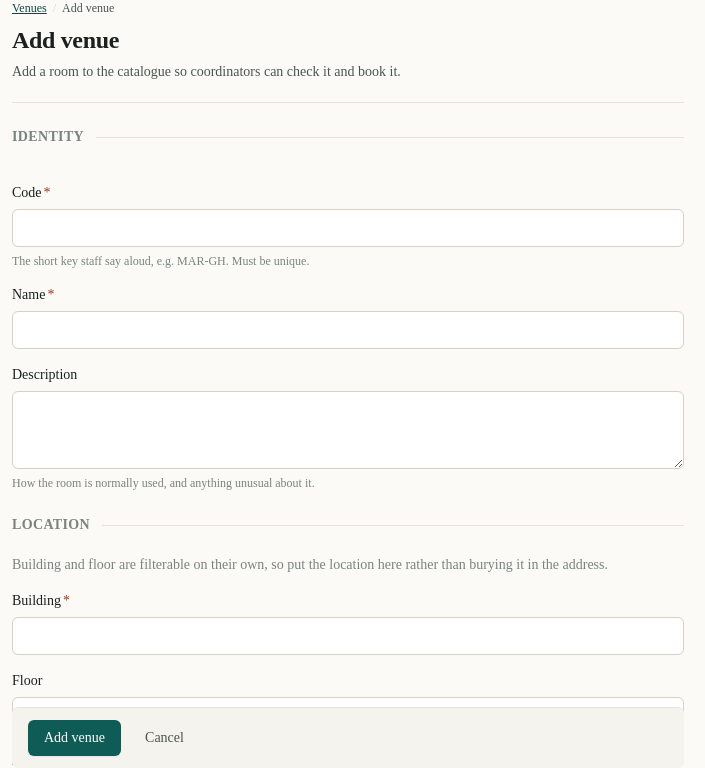
Add venue › what it refuses before sending › [SPM-39][AC1] a capacity of zero
Type "HALL-A" into the field labelled "Code*" at (348, 228), box [12, 209, 684, 247]
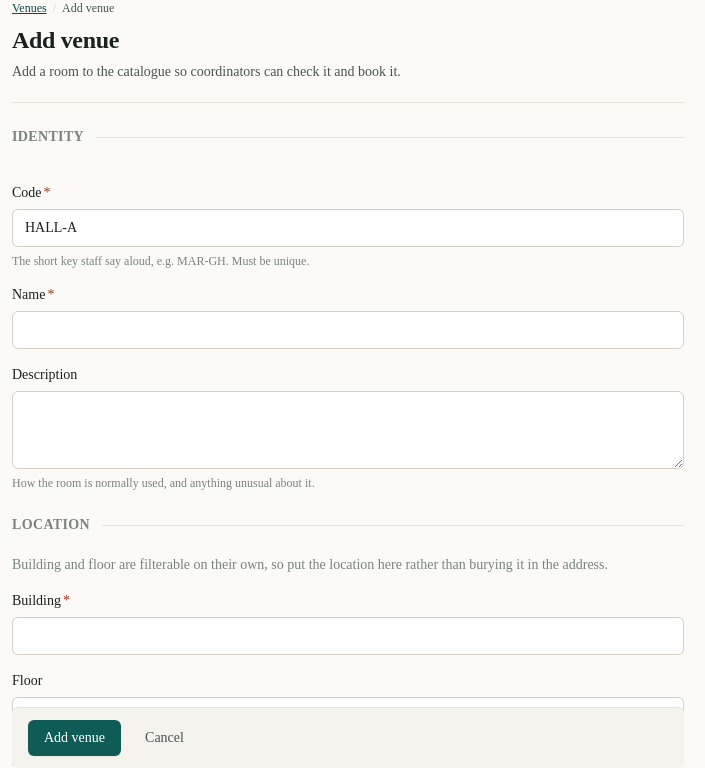
Type "Hall A" into the field labelled "Name*" at (348, 330), box [12, 311, 684, 349]
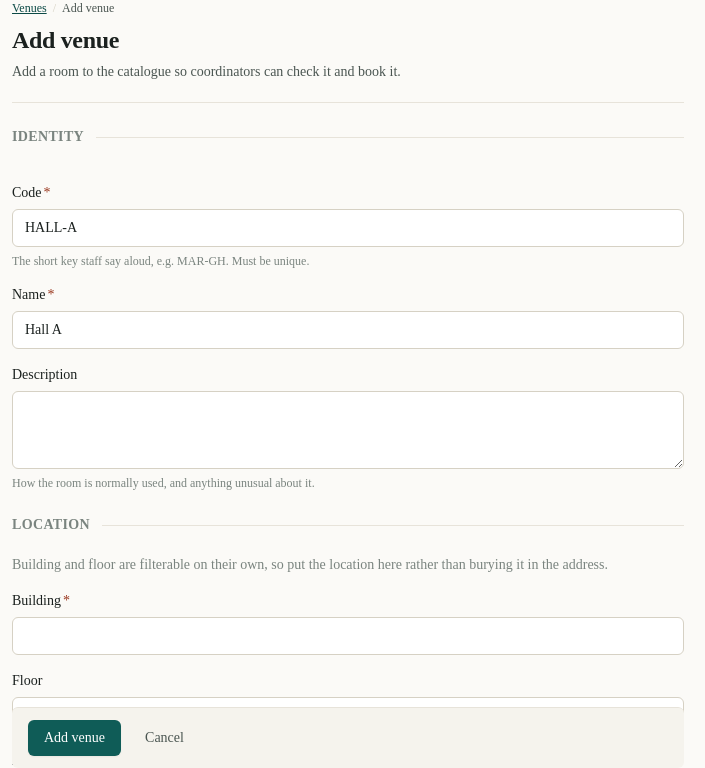
Type "Tower 1" into the field labelled "Building*" at (348, 636), box [12, 617, 684, 655]
(page scrolled)
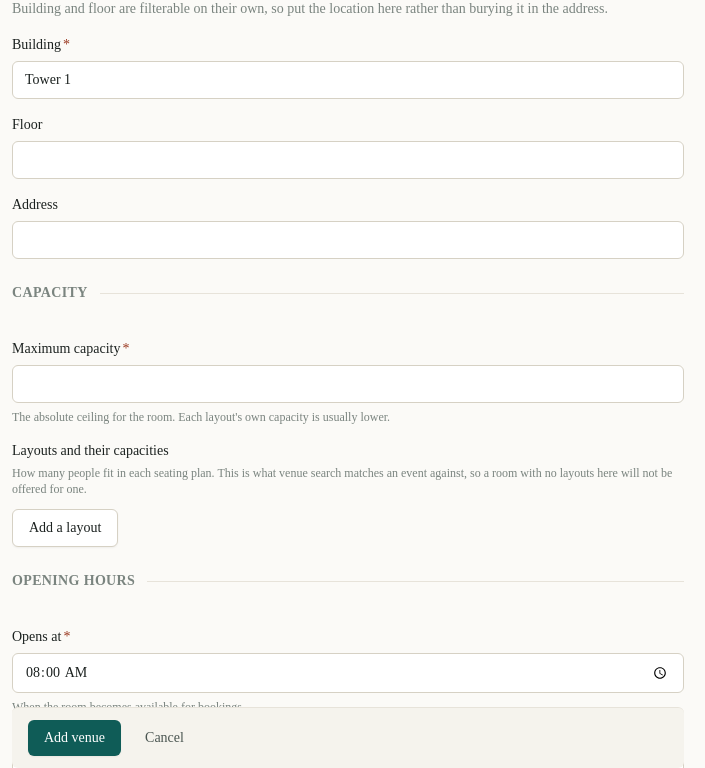
Type "300" into the number field labelled "Maximum capacity*" at (348, 384), box [12, 365, 684, 403]
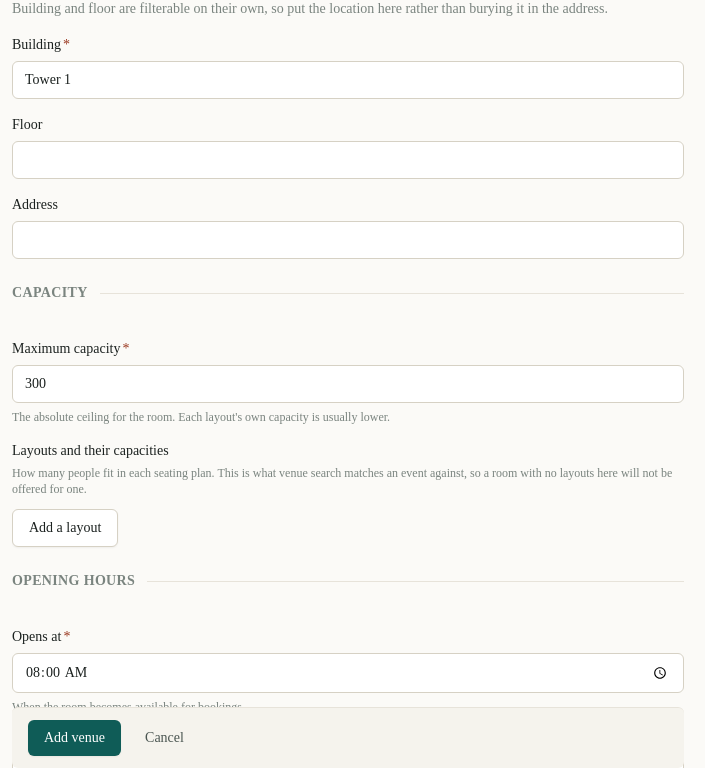
Replace the text in the number field labelled "Maximum capacity*" with "0" at (348, 384), box [12, 365, 684, 403]
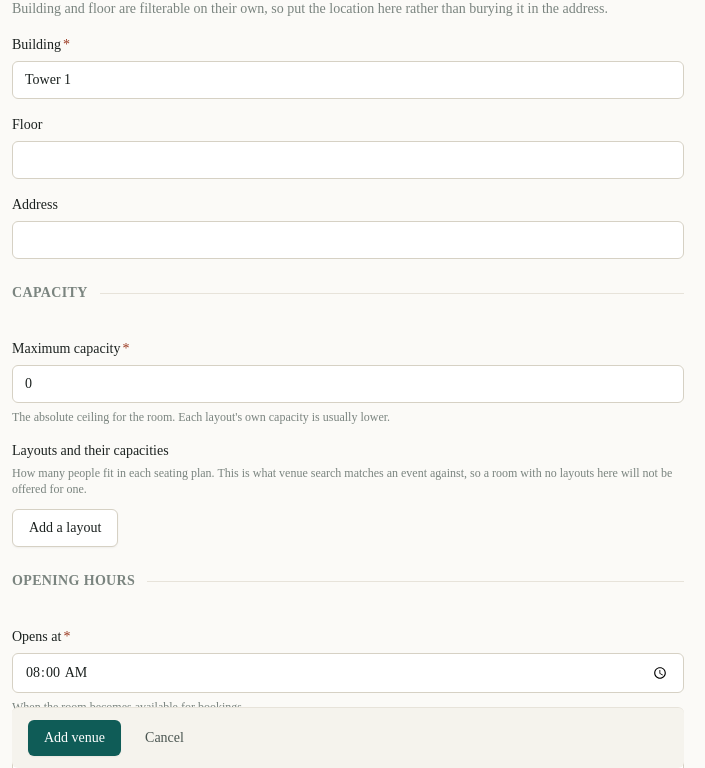
Click the button "Add venue" at (74, 738), box [28, 720, 121, 756]
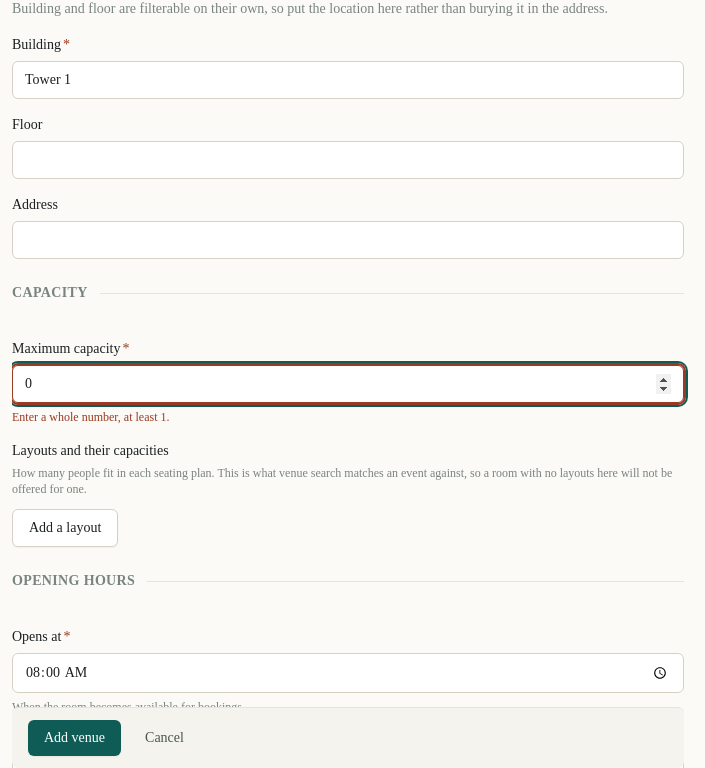
Result: the text "Enter a whole number, at least 1." is shown at [12, 410, 170, 424]
